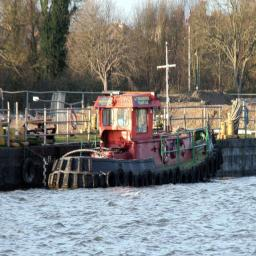tugboat: (47, 89, 224, 195)
